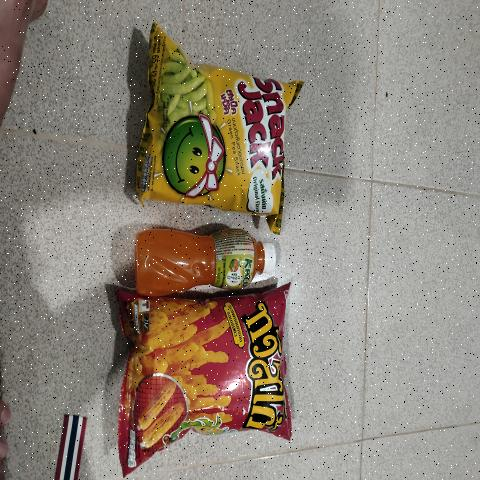snack_jack: (149, 42, 287, 219)
twisco: (114, 292, 291, 445)
